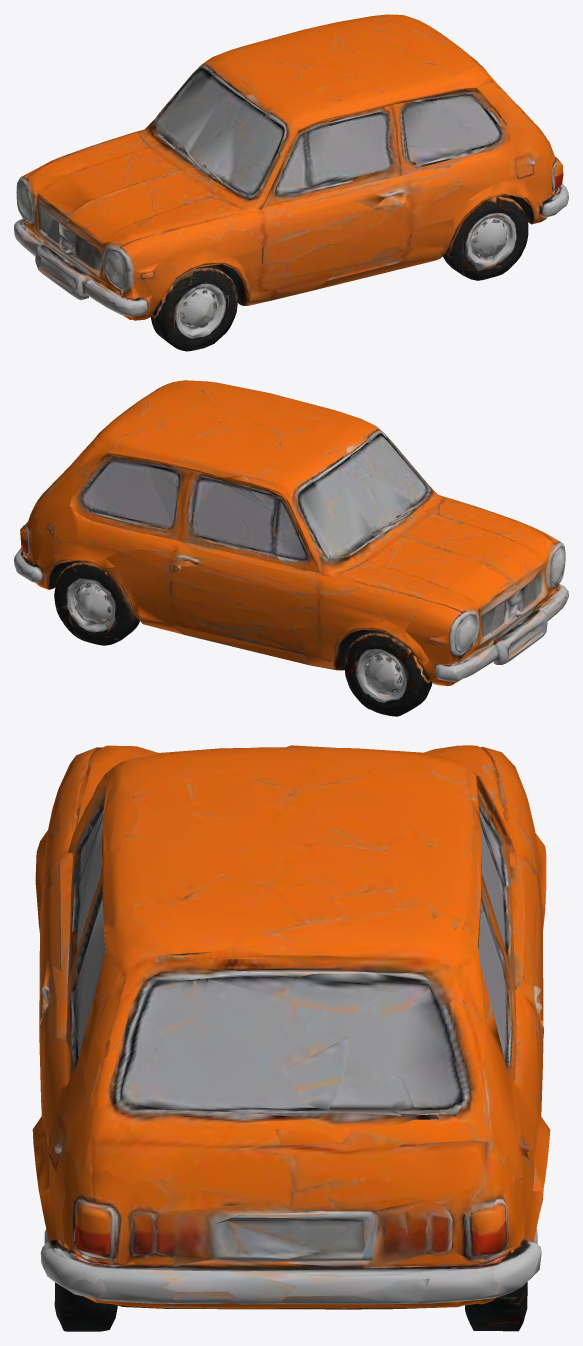
File: getkong-auto3.glb
3 views of the same model, one above another, from view 1: azimuth 30°, elevation 25°; view 2: azimuth 150°, elevation 25°; view 3: azimuth 270°, elevation 25° (orthographic). The views are drawn at different scales.
Visible parts, largest first — view 1: output_unwrapped; view 2: output_unwrapped; view 3: output_unwrapped.
Part boxes in pixels (left/top/right/bottom): output_unwrapped: left=14, top=14, right=568, bottom=351; output_unwrapped: left=14, top=380, right=568, bottom=716; output_unwrapped: left=32, top=745, right=550, bottom=1331.
Size of the model in its own units: 1.9 by 0.7796 by 0.9109.
Materials: 1 (1 with a texture image).
